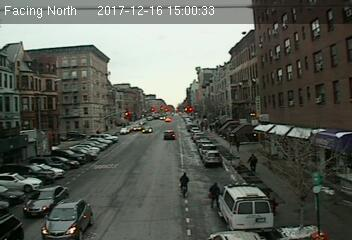bicycle: (177, 171, 191, 199)
car: (202, 150, 222, 166), (162, 128, 175, 140)
pedestrian: (209, 180, 222, 209), (247, 153, 259, 174)
police: (221, 182, 276, 231)
